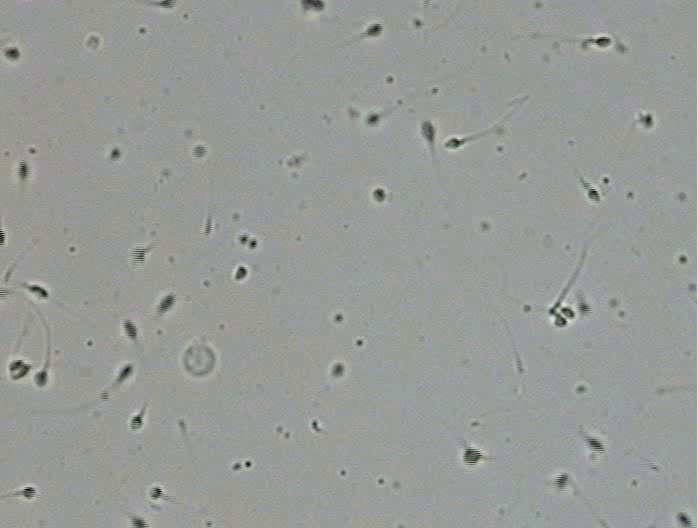Impurity: (183, 344, 217, 377), (86, 35, 100, 50)
S: (8, 359, 31, 380), (462, 446, 483, 465), (156, 294, 175, 313), (585, 436, 605, 454), (122, 319, 138, 340), (131, 245, 146, 265), (553, 473, 569, 491), (28, 285, 48, 299), (421, 121, 435, 141), (300, 1, 325, 12), (117, 365, 133, 382), (17, 159, 29, 180), (677, 512, 693, 527), (130, 516, 149, 528), (34, 371, 48, 387), (130, 415, 144, 431), (366, 23, 383, 36), (234, 265, 248, 280), (4, 47, 20, 60), (595, 36, 612, 48), (577, 302, 591, 316), (192, 145, 207, 158), (560, 306, 575, 319), (148, 487, 164, 499), (444, 138, 463, 148), (588, 188, 601, 202), (21, 486, 36, 498), (332, 363, 344, 377), (373, 188, 385, 202), (366, 113, 380, 125), (553, 314, 567, 326), (156, 1, 175, 9), (110, 147, 121, 160), (642, 114, 653, 127)
